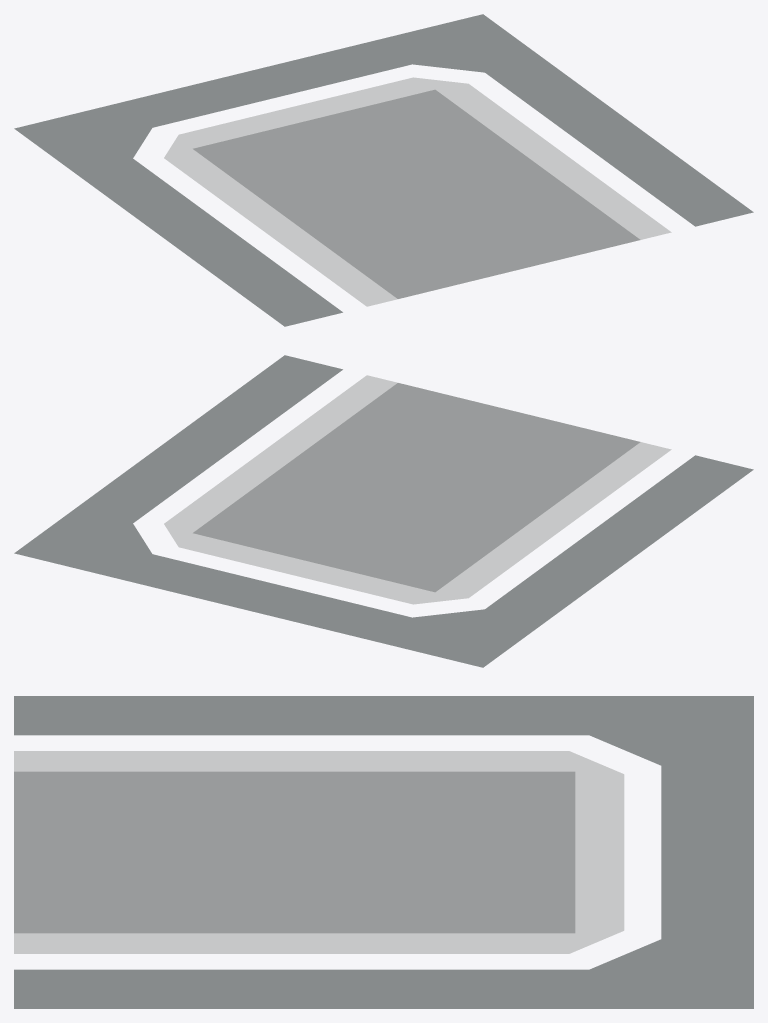
File: Ceiling_type_A_031.glb
3 renders of one model, top to bottom at view 1: azimuth 30°, elevation 25°; view 2: azimuth 150°, elevation 25°; view 3: azimuth 270°, elevation 25°, orthographic. The views are drawn at different scales.
Visible parts, largest first — view 1: Ceiling_type_A_031; view 2: Ceiling_type_A_031; view 3: Ceiling_type_A_031.
Part boxes in pixels (box(x1,y1,x2,y2)): Ceiling_type_A_031: box(14, 14, 753, 326); Ceiling_type_A_031: box(14, 355, 753, 667); Ceiling_type_A_031: box(14, 696, 753, 1008).
Bounding box in the file's own units: 4 × 0.0618 × 4.
Materials: 2 (2 with a texture image).
